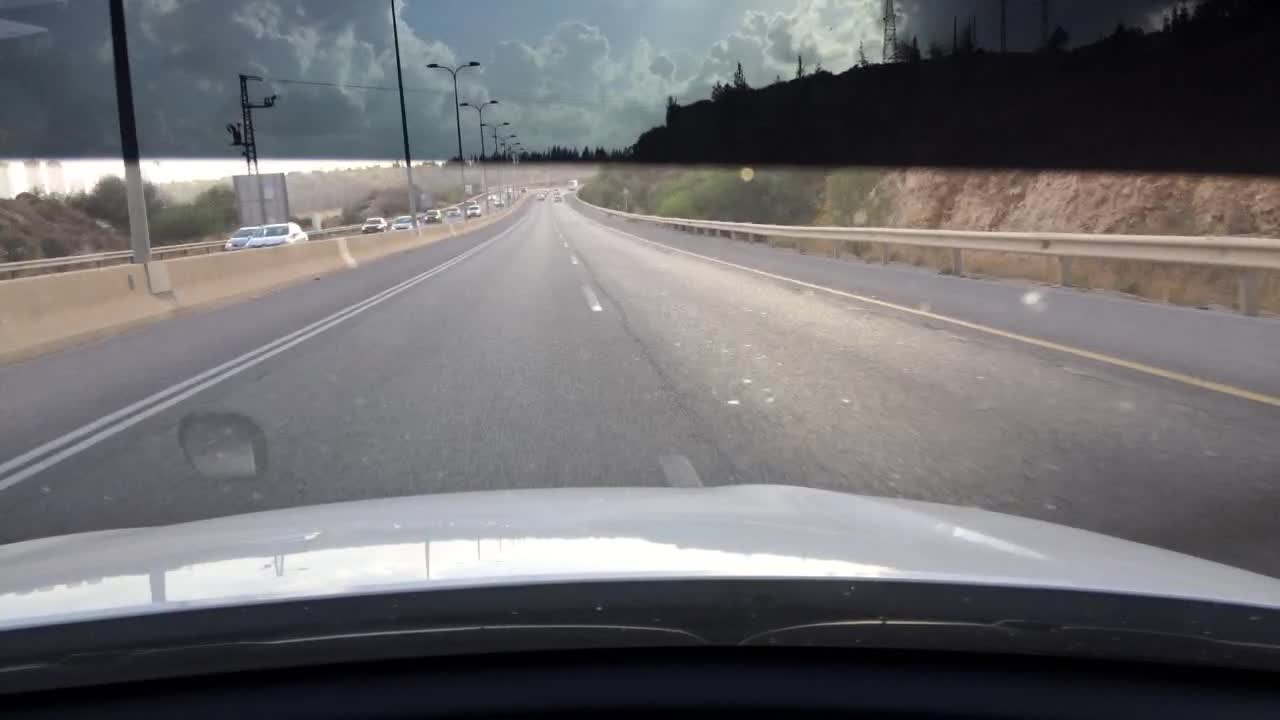car: (247, 222, 306, 249), (224, 227, 258, 252), (361, 217, 389, 232), (391, 217, 419, 230), (424, 209, 441, 222), (466, 205, 481, 217), (446, 207, 461, 217), (533, 190, 545, 202), (461, 197, 475, 205), (552, 193, 563, 203), (494, 199, 506, 208), (567, 177, 577, 187)
traffic sign: (234, 172, 286, 225)
